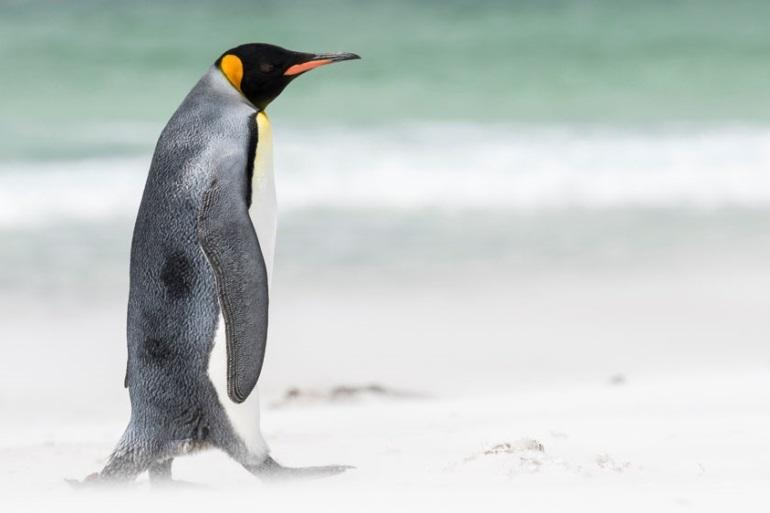king: (62, 12, 368, 480)
